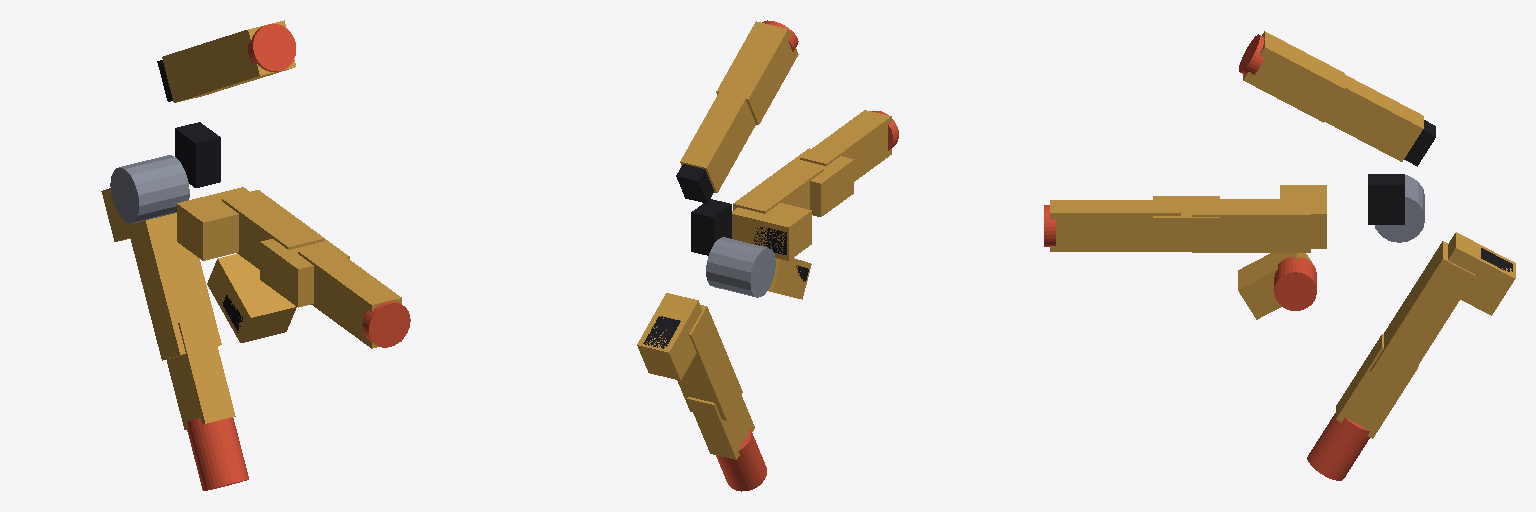
robot.urdf — g0059_c02:
<robot name="g0059_c02">
  <link name="palm">
    <visual name="palm_palm1">
      <origin xyz="0 0 0" rpy="0 0 0" />
      <geometry>
        <mesh filename="palm_palm1.obj" />
      </geometry>
      <material name="palm_palm1_mat">
        <color rgba="0.55 0.57 0.62 1" />
      </material>
    </visual>
    <collision>
      <origin xyz="0 0 0" rpy="0 0 0" />
      <geometry>
        <mesh filename="palm_palm1.obj" />
      </geometry>
    </collision>
    <visual name="palm_mount2">
      <origin xyz="0 0 0" rpy="0 0 0" />
      <geometry>
        <mesh filename="palm_mount2.obj" />
      </geometry>
      <material name="palm_mount2_mat">
        <color rgba="0.55 0.57 0.62 1" />
      </material>
    </visual>
    <collision>
      <origin xyz="0 0 0" rpy="0 0 0" />
      <geometry>
        <mesh filename="palm_mount2.obj" />
      </geometry>
    </collision>
    <visual name="palm_hinge3">
      <origin xyz="0 -0.01 0.0225" rpy="-1.57079633 -6.123234e-17 1.57079633" />
      <geometry>
        <box size="0.029 0.034 0.02" />
      </geometry>
      <material name="palm_hinge3_mat">
        <color rgba="0.15 0.15 0.17 1" />
      </material>
    </visual>
    <collision>
      <origin xyz="0 -0.01 0.0225" rpy="-1.57079633 -6.123234e-17 1.57079633" />
      <geometry>
        <box size="0.029 0.034 0.02" />
      </geometry>
    </collision>
    <visual name="palm_motor4">
      <origin xyz="-0.007 -0.102949673 -0.05325" rpy="3.5352508e-17 -0.523598776 1.57079633" />
      <geometry>
        <box size="0.029 0.034 0.02" />
      </geometry>
      <material name="palm_motor4_mat">
        <color rgba="0.15 0.15 0.17 1" />
      </material>
    </visual>
    <collision>
      <origin xyz="-0.007 -0.102949673 -0.05325" rpy="3.5352508e-17 -0.523598776 1.57079633" />
      <geometry>
        <box size="0.029 0.034 0.02" />
      </geometry>
    </collision>
    <visual name="palm_motor5">
      <origin xyz="-0.0265 -0.0725 -2.4492936e-19" rpy="1.8369702e-16 -6.123234e-17 -1.12481984e-32" />
      <geometry>
        <box size="0.029 0.034 0.02" />
      </geometry>
      <material name="palm_motor5_mat">
        <color rgba="0.15 0.15 0.17 1" />
      </material>
    </visual>
    <collision>
      <origin xyz="-0.0265 -0.0725 -2.4492936e-19" rpy="1.8369702e-16 -6.123234e-17 -1.12481984e-32" />
      <geometry>
        <box size="0.029 0.034 0.02" />
      </geometry>
    </collision>
    <visual name="palm_motor6">
      <origin xyz="-0.0045 0.0666996732 -0.0467548095" rpy="1.57079633 -0.523598776 -1.57079633" />
      <geometry>
        <box size="0.029 0.034 0.02" />
      </geometry>
      <material name="palm_motor6_mat">
        <color rgba="0.15 0.15 0.17 1" />
      </material>
    </visual>
    <collision>
      <origin xyz="-0.0045 0.0666996732 -0.0467548095" rpy="1.57079633 -0.523598776 -1.57079633" />
      <geometry>
        <box size="0.029 0.034 0.02" />
      </geometry>
    </collision>
    <inertial>
      <origin xyz="0 -0.0155839503 -0.0254361767" rpy="-1.57079633 0.0291729456 -1.57079633" />
      <mass value="0.753530355" />
      <inertia ixx="0.000598246256" ixy="0" ixz="0" iyy="0.00224274276" iyz="0" izz="0.00276865011" />
    </inertial>
  </link>
  <link name="palm0">
    <visual name="palm0_palm1">
      <origin xyz="0 0 0" rpy="0 0 0" />
      <geometry>
        <mesh filename="palm0_palm1.obj" />
      </geometry>
      <material name="palm0_palm1_mat">
        <color rgba="0.55 0.57 0.62 1" />
      </material>
    </visual>
    <collision>
      <origin xyz="0 0 0" rpy="0 0 0" />
      <geometry>
        <mesh filename="palm0_palm1.obj" />
      </geometry>
    </collision>
    <visual name="palm0_motor2">
      <origin xyz="0 0.0164951905 0.04625" rpy="-1.57079633 -1.04719755 1.57079633" />
      <geometry>
        <box size="0.029 0.034 0.02" />
      </geometry>
      <material name="palm0_motor2_mat">
        <color rgba="0.15 0.15 0.17 1" />
      </material>
    </visual>
    <collision>
      <origin xyz="0 0.0164951905 0.04625" rpy="-1.57079633 -1.04719755 1.57079633" />
      <geometry>
        <box size="0.029 0.034 0.02" />
      </geometry>
    </collision>
    <inertial>
      <origin xyz="0 0.00744866595 0.0280188868" rpy="1.57079633 -0.127128262 1.57079633" />
      <mass value="0.198091474" />
      <inertia ixx="5.93424943e-05" ixy="0" ixz="0" iyy="0.000156109018" iyz="0" izz="0.00019643473" />
    </inertial>
  </link>
  <link name="f0_link0">
    <visual name="f0_link0_link1">
      <origin xyz="-0.00625 -0.0165 0" rpy="-3.98552134e-18 3.28753789e-33 4.89261673e-33" />
      <geometry>
        <box size="0.0365 0.053 0.029" />
      </geometry>
      <material name="f0_link0_link1_mat">
        <color rgba="0.80 0.62 0.30 1" />
      </material>
    </visual>
    <collision>
      <origin xyz="-0.00625 -0.0165 0" rpy="-3.98552134e-18 3.28753789e-33 4.89261673e-33" />
      <geometry>
        <box size="0.0365 0.053 0.029" />
      </geometry>
    </collision>
    <inertial>
      <origin xyz="-0.00625 -0.0165 0" rpy="0 0 0" />
      <mass value="0.098175875" />
      <inertia ixx="2.98618286e-05" ixy="0" ixz="0" iyy="1.778006e-05" iyz="0" izz="3.38809035e-05" />
    </inertial>
  </link>
  <link name="f0_link1">
    <visual name="f0_link1_link1">
      <origin xyz="0.019 -1.38777878e-17 -2.60208521e-18" rpy="-1.57079633 -0 -1.57079633" />
      <geometry>
        <cylinder radius="0.0165" length="0.029" />
      </geometry>
      <material name="f0_link1_link1_mat">
        <color rgba="0.85 0.35 0.25 1" />
      </material>
    </visual>
    <collision>
      <origin xyz="0.019 -1.38777878e-17 -2.60208521e-18" rpy="-1.57079633 -0 -1.57079633" />
      <geometry>
        <cylinder radius="0.0165" length="0.029" />
      </geometry>
    </collision>
    <inertial>
      <origin xyz="0.019 0 0" rpy="0 0 0" />
      <mass value="0.0763354" />
      <inertia ixx="9.49466441e-06" ixy="0" ixz="0" iyy="2.24143997e-05" iyz="0" izz="2.24143997e-05" />
    </inertial>
  </link>
  <link name="f1_link0">
    <visual name="f1_link0_link1">
      <origin xyz="-0.00625 -0.0165 0" rpy="0 -0 0" />
      <geometry>
        <box size="0.0365 0.053 0.029" />
      </geometry>
      <material name="f1_link0_link1_mat">
        <color rgba="0.80 0.62 0.30 1" />
      </material>
    </visual>
    <collision>
      <origin xyz="-0.00625 -0.0165 0" rpy="0 -0 0" />
      <geometry>
        <box size="0.0365 0.053 0.029" />
      </geometry>
    </collision>
    <inertial>
      <origin xyz="-0.00625 -0.0165 0" rpy="0 0 0" />
      <mass value="0.098175875" />
      <inertia ixx="2.98618286e-05" ixy="0" ixz="0" iyy="1.778006e-05" iyz="0" izz="3.38809035e-05" />
    </inertial>
  </link>
  <link name="f1_link1">
    <visual name="f1_link1_link1">
      <origin xyz="0.03375 0 0" rpy="0 -0 0" />
      <geometry>
        <box size="0.0915 0.029 0.033" />
      </geometry>
      <material name="f1_link1_link1_mat">
        <color rgba="0.80 0.62 0.30 1" />
      </material>
    </visual>
    <collision>
      <origin xyz="0.03375 0 0" rpy="0 -0 0" />
      <geometry>
        <box size="0.0915 0.029 0.033" />
      </geometry>
    </collision>
    <inertial>
      <origin xyz="0.03375 0 0" rpy="0 0 0" />
      <mass value="0.153239625" />
      <inertia ixx="2.46460397e-05" ixy="0" ixz="0" iyy="0.000120819867" iyz="0" izz="0.000117652915" />
    </inertial>
  </link>
  <link name="f1_link2">
    <visual name="f1_link2_link1">
      <origin xyz="0.014 -0.004 3.08148791e-33" rpy="0 -0 0" />
      <geometry>
        <box size="0.052 0.041 0.029" />
      </geometry>
      <material name="f1_link2_link1_mat">
        <color rgba="0.80 0.62 0.30 1" />
      </material>
    </visual>
    <collision>
      <origin xyz="0.014 -0.004 3.08148791e-33" rpy="0 -0 0" />
      <geometry>
        <box size="0.052 0.041 0.029" />
      </geometry>
    </collision>
    <inertial>
      <origin xyz="0.014 -0.004 0" rpy="0 0 0" />
      <mass value="0.108199" />
      <inertia ixx="2.27398232e-05" ixy="0" ixz="0" iyy="3.19637879e-05" iyz="0" izz="3.95377179e-05" />
    </inertial>
  </link>
  <link name="f1_link3">
    <visual name="f1_link3_link1">
      <origin xyz="0.03875 0 3.08148791e-33" rpy="0 -0 0" />
      <geometry>
        <box size="0.1015 0.024 0.033" />
      </geometry>
      <material name="f1_link3_link1_mat">
        <color rgba="0.80 0.62 0.30 1" />
      </material>
    </visual>
    <collision>
      <origin xyz="0.03875 0 3.08148791e-33" rpy="0 -0 0" />
      <geometry>
        <box size="0.1015 0.024 0.033" />
      </geometry>
    </collision>
    <inertial>
      <origin xyz="0.03875 0 0" rpy="0 0 0" />
      <mass value="0.140679" />
      <inertia ixx="1.95192113e-05" ixy="0" ixz="0" iyy="0.000133542472" iyz="0" izz="0.000127528444" />
    </inertial>
  </link>
  <link name="f1_link4">
    <visual name="f1_link4_link1">
      <origin xyz="0.009 0 9.24446373e-33" rpy="-1.57079633 -0 -1.57079633" />
      <geometry>
        <cylinder radius="0.0165" length="0.009" />
      </geometry>
      <material name="f1_link4_link1_mat">
        <color rgba="0.85 0.35 0.25 1" />
      </material>
    </visual>
    <collision>
      <origin xyz="0.009 0 9.24446373e-33" rpy="-1.57079633 -0 -1.57079633" />
      <geometry>
        <cylinder radius="0.0165" length="0.009" />
      </geometry>
    </collision>
    <inertial>
      <origin xyz="0.009 0 0" rpy="0 0 0" />
      <mass value="0.046399949" />
      <inertia ixx="5.41970115e-06" ixy="0" ixz="0" iyy="7.09430898e-06" iyz="0" izz="7.09430898e-06" />
    </inertial>
  </link>
  <link name="f2_link0">
    <visual name="f2_link0_link1">
      <origin xyz="0.03375 0 0" rpy="0 7.03853194e-17 0" />
      <geometry>
        <box size="0.0915 0.024 0.033" />
      </geometry>
      <material name="f2_link0_link1_mat">
        <color rgba="0.80 0.62 0.30 1" />
      </material>
    </visual>
    <collision>
      <origin xyz="0.03375 0 0" rpy="0 7.03853194e-17 0" />
      <geometry>
        <box size="0.0915 0.024 0.033" />
      </geometry>
    </collision>
    <inertial>
      <origin xyz="0.03375 0 0" rpy="0 0 0" />
      <mass value="0.126819" />
      <inertia ixx="1.75961363e-05" ixy="0" ixz="0" iyy="9.99888553e-05" iyz="0" izz="9.45673431e-05" />
    </inertial>
  </link>
  <link name="f2_link1">
    <visual name="f2_link1_link1">
      <origin xyz="0.02375 0 -1.38777878e-17" rpy="0 7.03853194e-17 0" />
      <geometry>
        <box size="0.0715 0.029 0.033" />
      </geometry>
      <material name="f2_link1_link1_mat">
        <color rgba="0.80 0.62 0.30 1" />
      </material>
    </visual>
    <collision>
      <origin xyz="0.02375 0 -1.38777878e-17" rpy="0 7.03853194e-17 0" />
      <geometry>
        <box size="0.0715 0.029 0.033" />
      </geometry>
    </collision>
    <inertial>
      <origin xyz="0.02375 0 0" rpy="0 0 0" />
      <mass value="0.119744625" />
      <inertia ixx="1.92589272e-05" ixy="0" ixz="0" iyy="6.18805296e-05" iyz="0" izz="5.94058074e-05" />
    </inertial>
  </link>
  <link name="f2_link2">
    <visual name="f2_link2_link1">
      <origin xyz="0.009 0 -6.9388939e-18" rpy="-1.57079633 -0 -1.57079633" />
      <geometry>
        <cylinder radius="0.0165" length="0.009" />
      </geometry>
      <material name="f2_link2_link1_mat">
        <color rgba="0.85 0.35 0.25 1" />
      </material>
    </visual>
    <collision>
      <origin xyz="0.009 0 -6.9388939e-18" rpy="-1.57079633 -0 -1.57079633" />
      <geometry>
        <cylinder radius="0.0165" length="0.009" />
      </geometry>
    </collision>
    <inertial>
      <origin xyz="0.009 0 0" rpy="0 0 0" />
      <mass value="0.046399949" />
      <inertia ixx="5.41970115e-06" ixy="0" ixz="0" iyy="7.09430898e-06" iyz="0" izz="7.09430898e-06" />
    </inertial>
  </link>
  <link name="f3_link0">
    <visual name="f3_link0_link1">
      <origin xyz="-0.00625 0 -0.0165" rpy="0 4.06369831e-17 0" />
      <geometry>
        <box size="0.0365 0.029 0.053" />
      </geometry>
      <material name="f3_link0_link1_mat">
        <color rgba="0.80 0.62 0.30 1" />
      </material>
    </visual>
    <collision>
      <origin xyz="-0.00625 0 -0.0165" rpy="0 4.06369831e-17 0" />
      <geometry>
        <box size="0.0365 0.029 0.053" />
      </geometry>
    </collision>
    <inertial>
      <origin xyz="-0.00625 0 -0.0165" rpy="0 0 0" />
      <mass value="0.098175875" />
      <inertia ixx="2.98618286e-05" ixy="0" ixz="0" iyy="3.38809035e-05" iyz="0" izz="1.778006e-05" />
    </inertial>
  </link>
  <link name="f3_link1">
    <visual name="f3_link1_link1">
      <origin xyz="0.04375 0 6.9388939e-18" rpy="0 4.06369831e-17 0" />
      <geometry>
        <box size="0.1115 0.033 0.029" />
      </geometry>
      <material name="f3_link1_link1_mat">
        <color rgba="0.80 0.62 0.30 1" />
      </material>
    </visual>
    <collision>
      <origin xyz="0.04375 0 6.9388939e-18" rpy="0 4.06369831e-17 0" />
      <geometry>
        <box size="0.1115 0.033 0.029" />
      </geometry>
    </collision>
    <inertial>
      <origin xyz="0.04375 0 0" rpy="0 0 0" />
      <mass value="0.186734625" />
      <inertia ixx="3.00331522e-05" ixy="0" ixz="0" iyy="0.000206547947" iyz="0" izz="0.000210407129" />
    </inertial>
  </link>
  <link name="f3_link2">
    <visual name="f3_link2_link1">
      <origin xyz="0.02375 0 0" rpy="0 4.06369831e-17 0" />
      <geometry>
        <box size="0.0715 0.024 0.033" />
      </geometry>
      <material name="f3_link2_link1_mat">
        <color rgba="0.80 0.62 0.30 1" />
      </material>
    </visual>
    <collision>
      <origin xyz="0.02375 0 0" rpy="0 4.06369831e-17 0" />
      <geometry>
        <box size="0.0715 0.024 0.033" />
      </geometry>
    </collision>
    <inertial>
      <origin xyz="0.02375 0 0" rpy="0 0 0" />
      <mass value="0.099099" />
      <inertia ixx="1.37499863e-05" ixy="0" ixz="0" iyy="5.12114728e-05" iyz="0" izz="4.69749906e-05" />
    </inertial>
  </link>
  <link name="f3_link3">
    <visual name="f3_link3_link1">
      <origin xyz="0.029 0 3.46944695e-18" rpy="-1.57079633 -0 -1.57079633" />
      <geometry>
        <cylinder radius="0.0165" length="0.049" />
      </geometry>
      <material name="f3_link3_link1_mat">
        <color rgba="0.85 0.35 0.25 1" />
      </material>
    </visual>
    <collision>
      <origin xyz="0.029 0 3.46944695e-18" rpy="-1.57079633 -0 -1.57079633" />
      <geometry>
        <cylinder radius="0.0165" length="0.049" />
      </geometry>
    </collision>
    <inertial>
      <origin xyz="0.029 0 0" rpy="0 0 0" />
      <mass value="0.106270851" />
      <inertia ixx="1.35696277e-05" ixy="0" ixz="0" iyy="5.30015704e-05" iyz="0" izz="5.30015704e-05" />
    </inertial>
  </link>
  <joint name="palm0_joint" type="revolute">
    <parent link="palm" />
    <child link="palm0" />
    <origin xyz="0 -0.01 0.03" rpy="0 0 0" />
    <axis xyz="0 1 6.123234e-17" />
    <limit effort="0.5" lower="-0.523598776" upper="0.523598776" velocity="5" />
    <dynamics damping="0.0775033" friction="0" />
  </joint>
  <joint name="f0_j0" type="revolute">
    <parent link="palm" />
    <child link="f0_link0" />
    <origin xyz="0.0005 -0.08 -0.04" rpy="0.523598776 3.061617e-17 -5.30287619e-17" />
    <axis xyz="0 1 6.123234e-17" />
    <limit effort="0.5" lower="-0.523598776" upper="0.523598776" velocity="5" />
    <dynamics damping="0.0775033" friction="0" />
  </joint>
  <joint name="f0_j1" type="revolute">
    <parent link="f0_link0" />
    <child link="f0_link1" />
    <origin xyz="0 0 0" rpy="0 0 0" />
    <axis xyz="0 0 1" />
    <limit effort="0.5" lower="-0.523598776" upper="1.57079633" velocity="5" />
    <dynamics damping="0.0775033" friction="0" />
  </joint>
  <joint name="f1_j0" type="revolute">
    <parent link="palm" />
    <child link="f1_link0" />
    <origin xyz="0 -0.08 0" rpy="0 1.8369702e-16 -1.57079633" />
    <axis xyz="-0 -1 -6.123234e-17" />
    <limit effort="0.5" lower="-0.523598776" upper="0.523598776" velocity="5" />
    <dynamics damping="0.0775033" friction="0" />
  </joint>
  <joint name="f1_j1" type="revolute">
    <parent link="f1_link0" />
    <child link="f1_link1" />
    <origin xyz="0 0 0" rpy="0 0 0" />
    <axis xyz="0 0 1" />
    <limit effort="0.5" lower="-0.523598776" upper="1.57079633" velocity="5" />
    <dynamics damping="0.0775033" friction="0" />
  </joint>
  <joint name="f1_j2" type="revolute">
    <parent link="f1_link1" />
    <child link="f1_link2" />
    <origin xyz="0.07 0 0" rpy="0 0 0" />
    <axis xyz="-0 -1 -6.123234e-17" />
    <limit effort="0.5" lower="-0.523598776" upper="0.523598776" velocity="5" />
    <dynamics damping="0.0775033" friction="0" />
  </joint>
  <joint name="f1_j3" type="revolute">
    <parent link="f1_link2" />
    <child link="f1_link3" />
    <origin xyz="0.03 0 0" rpy="0 0 0" />
    <axis xyz="0 0 1" />
    <limit effort="0.5" lower="-0.523598776" upper="1.57079633" velocity="5" />
    <dynamics damping="0.0775033" friction="0" />
  </joint>
  <joint name="f1_j4" type="revolute">
    <parent link="f1_link3" />
    <child link="f1_link4" />
    <origin xyz="0.08 0 0" rpy="0 0 0" />
    <axis xyz="0 0 1" />
    <limit effort="0.5" lower="-0.523598776" upper="1.57079633" velocity="5" />
    <dynamics damping="0.0775033" friction="0" />
  </joint>
  <joint name="f2_j0" type="revolute">
    <parent link="palm0" />
    <child link="f2_link0" />
    <origin xyz="0 0.01 0.05" rpy="-0 -0.523598776 -1.57079633" />
    <axis xyz="0 0 1" />
    <limit effort="0.5" lower="-0.523598776" upper="1.57079633" velocity="5" />
    <dynamics damping="0.0775033" friction="0" />
  </joint>
  <joint name="f2_j1" type="revolute">
    <parent link="f2_link0" />
    <child link="f2_link1" />
    <origin xyz="0.07 0 0" rpy="0 0 0" />
    <axis xyz="0 0 1" />
    <limit effort="0.5" lower="-0.523598776" upper="1.57079633" velocity="5" />
    <dynamics damping="0.0775033" friction="0" />
  </joint>
  <joint name="f2_j2" type="revolute">
    <parent link="f2_link1" />
    <child link="f2_link2" />
    <origin xyz="0.05 0 0" rpy="0 0 0" />
    <axis xyz="-0 -1 -6.123234e-17" />
    <limit effort="0.5" lower="-0.523598776" upper="0.523598776" velocity="5" />
    <dynamics damping="0.0775033" friction="0" />
  </joint>
  <joint name="f3_j0" type="revolute">
    <parent link="palm" />
    <child link="f3_link0" />
    <origin xyz="-0.0045 0.04 -0.04" rpy="0 1.04719755 -1.57079633" />
    <axis xyz="0 0 1" />
    <limit effort="0.5" lower="-0.523598776" upper="1.57079633" velocity="5" />
    <dynamics damping="0.0775033" friction="0" />
  </joint>
  <joint name="f3_j1" type="revolute">
    <parent link="f3_link0" />
    <child link="f3_link1" />
    <origin xyz="0 0 0" rpy="0 0 0" />
    <axis xyz="0 1 6.123234e-17" />
    <limit effort="0.5" lower="-0.523598776" upper="0.523598776" velocity="5" />
    <dynamics damping="0.0775033" friction="0" />
  </joint>
  <joint name="f3_j2" type="revolute">
    <parent link="f3_link1" />
    <child link="f3_link2" />
    <origin xyz="0.09 0 0" rpy="0 0 0" />
    <axis xyz="0 0 1" />
    <limit effort="0.5" lower="-0.523598776" upper="1.57079633" velocity="5" />
    <dynamics damping="0.0775033" friction="0" />
  </joint>
  <joint name="f3_j3" type="revolute">
    <parent link="f3_link2" />
    <child link="f3_link3" />
    <origin xyz="0.05 0 0" rpy="0 0 0" />
    <axis xyz="0 0 1" />
    <limit effort="0.5" lower="-0.523598776" upper="1.57079633" velocity="5" />
    <dynamics damping="0.0775033" friction="0" />
  </joint>
</robot>

--- Render facts (derived) ---
Views: 3 orthographic renders of the robot side by side, from view 1: azimuth 30°, elevation 25°; view 2: azimuth 150°, elevation 25°; view 3: azimuth 270°, elevation 25°.
Robot: g0059_c02 — 16 links, 15 joints (15 revolute); root link palm; default pose: every joint at zero.
Visible links, largest first — view 1: f3_link1, palm, f3_link2, f1_link3, f0_link0, f1_link1, f1_link0, f3_link3, f1_link2, f2_link1, f2_link0, f2_link2 (+2 smaller); view 2: palm, f2_link0, f2_link1, f3_link1, f1_link3, f3_link0, f1_link0, f1_link1, f3_link2, f1_link2, f3_link3, f0_link0 (+1 smaller); view 3: f3_link1, f1_link3, f1_link1, f2_link0, f2_link1, palm, f3_link2, f1_link2, f3_link0, f3_link3, f0_link0, f0_link1 (+3 smaller).
Link boxes in pixels (x1,y1,x2,y2): f3_link1: (127, 213, 221, 360); palm: (110, 122, 242, 332); f3_link2: (167, 316, 235, 429); f1_link3: (298, 244, 401, 348); f0_link0: (207, 254, 296, 342); f1_link1: (222, 190, 324, 269); f1_link0: (177, 187, 249, 260); f3_link3: (185, 417, 248, 490); f1_link2: (260, 239, 349, 307); f2_link1: (203, 20, 295, 89); f2_link0: (162, 44, 249, 102); f2_link2: (248, 24, 295, 71); palm: (643, 199, 808, 348); f2_link0: (680, 73, 756, 192); f2_link1: (716, 21, 798, 124); f3_link1: (677, 305, 742, 420); f1_link3: (800, 110, 891, 181); f3_link0: (637, 293, 701, 380); f1_link0: (732, 203, 811, 260); f1_link1: (733, 161, 823, 213); f3_link2: (687, 395, 754, 459); f1_link2: (792, 148, 853, 216); f3_link3: (716, 429, 766, 491); f0_link0: (768, 258, 811, 299); f3_link1: (1370, 241, 1474, 388); f1_link3: (1050, 200, 1180, 251); f1_link1: (1192, 199, 1310, 252); f2_link0: (1321, 63, 1423, 161); f2_link1: (1243, 31, 1344, 122); palm: (1368, 174, 1512, 271); f3_link2: (1336, 334, 1418, 438); f1_link2: (1153, 196, 1219, 251); f3_link0: (1448, 232, 1515, 315); f3_link3: (1307, 413, 1369, 480); f0_link0: (1238, 253, 1315, 319); f0_link1: (1274, 257, 1316, 310).
Bounding box of the posed robot: 0.086 × 0.363 × 0.3769 m (x, y, z).
1 mesh visuals loaded from 3 distinct referenced files (1 OBJ); not drawn: 2 (reference not matched to a file when rendering).
